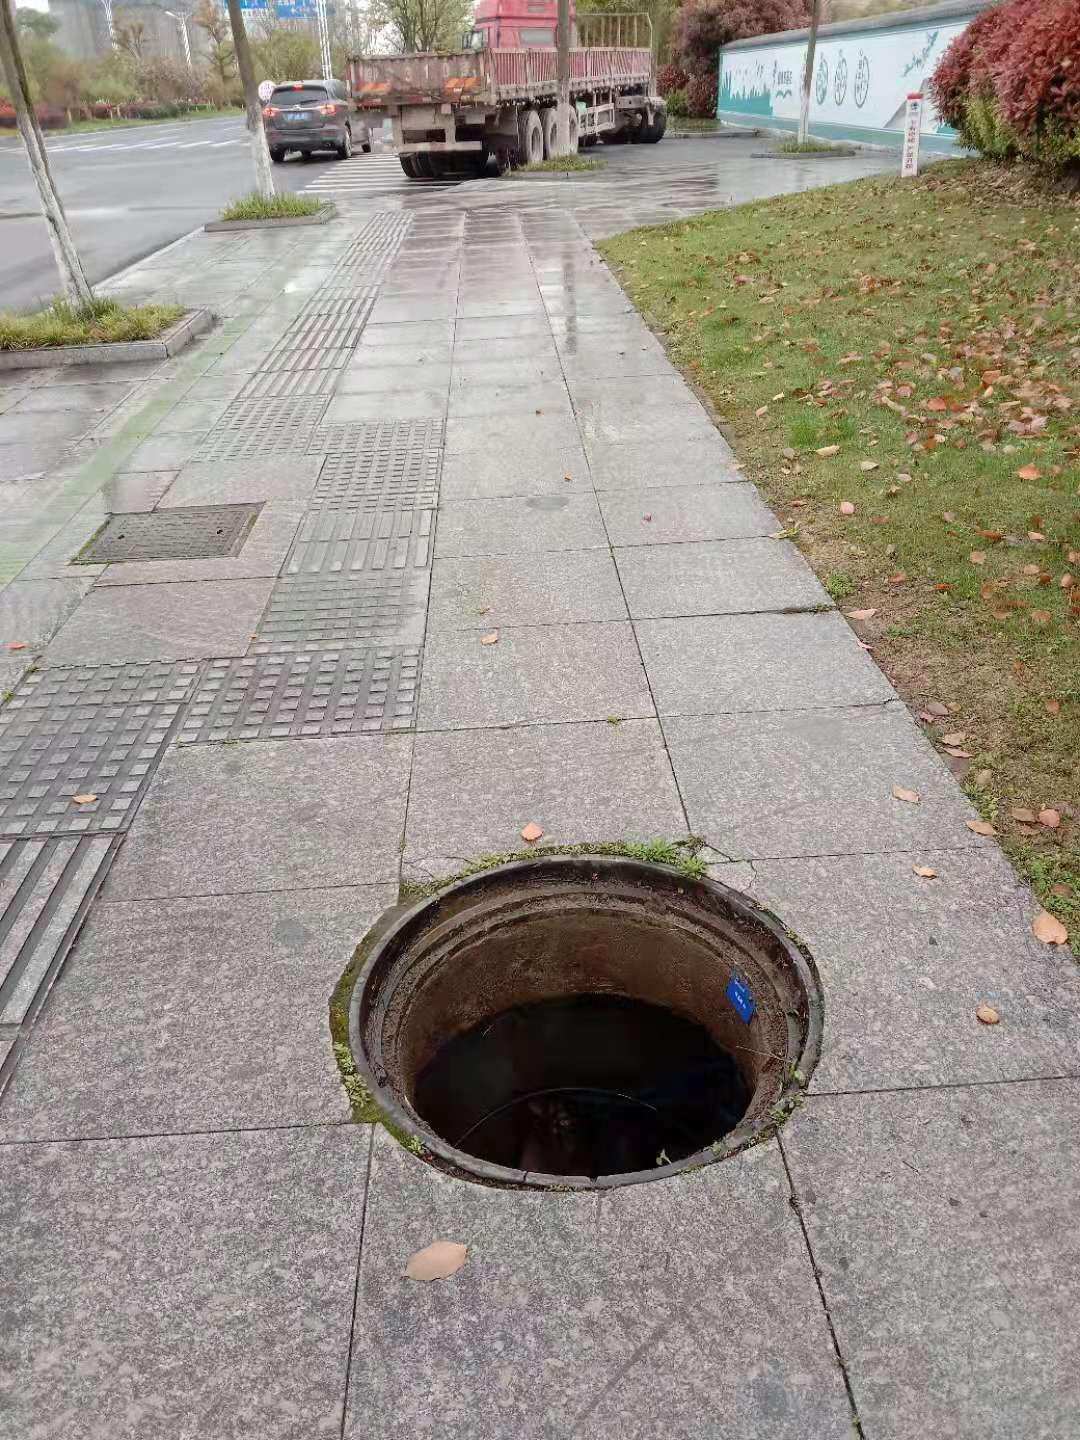good: (73, 503, 263, 564)
lose: (346, 850, 821, 1194)
